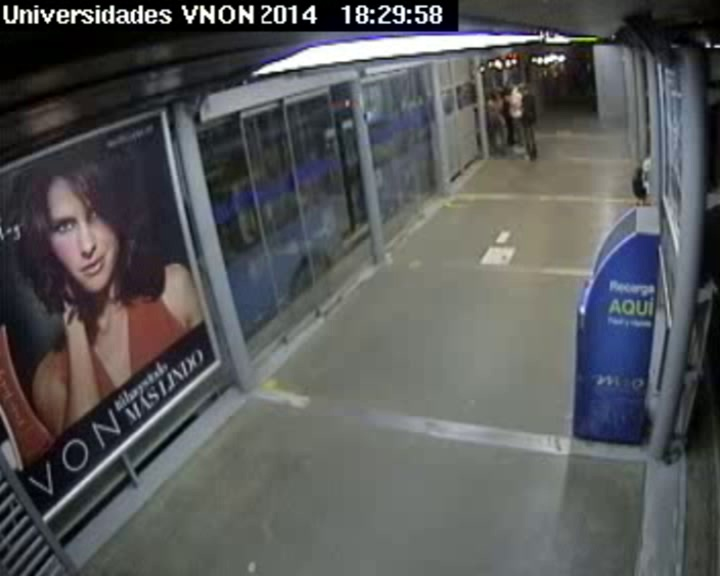person: (488, 87, 501, 101), (520, 84, 532, 97), (506, 80, 518, 92)
